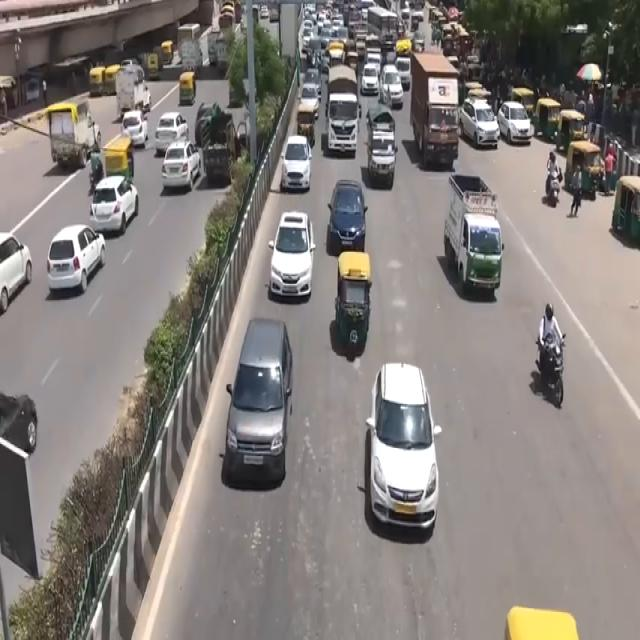MOTORCYCLE: (548, 338, 570, 411)
TRUCK: (449, 174, 506, 299), (408, 56, 458, 173), (366, 108, 396, 189), (329, 92, 360, 155)
